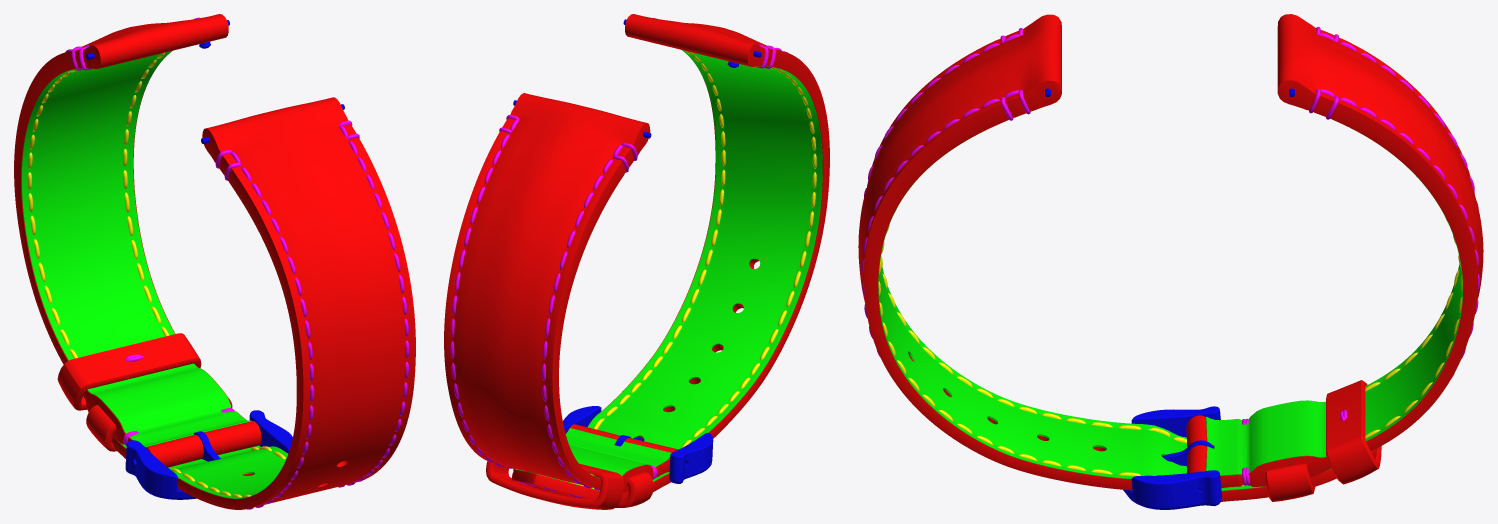
The model's file is Tank_Must_L_Non_Animal.fbx.
3 views of the same model, side by side, from view 1: azimuth 30°, elevation 25°; view 2: azimuth 150°, elevation 25°; view 3: azimuth 270°, elevation 25° (orthographic). The views are drawn at different scales.
Visible parts, largest first — view 1: Tank_Must_L_Non_Animal; view 2: Tank_Must_L_Non_Animal; view 3: Tank_Must_L_Non_Animal.
Boxes of the visible parts, left/top/right/bottom form: Tank_Must_L_Non_Animal: left=14, top=14, right=415, bottom=509; Tank_Must_L_Non_Animal: left=444, top=14, right=829, bottom=509; Tank_Must_L_Non_Animal: left=858, top=14, right=1483, bottom=509.
Size of the model in its own units: 2.1 by 5.74 by 7.48.
